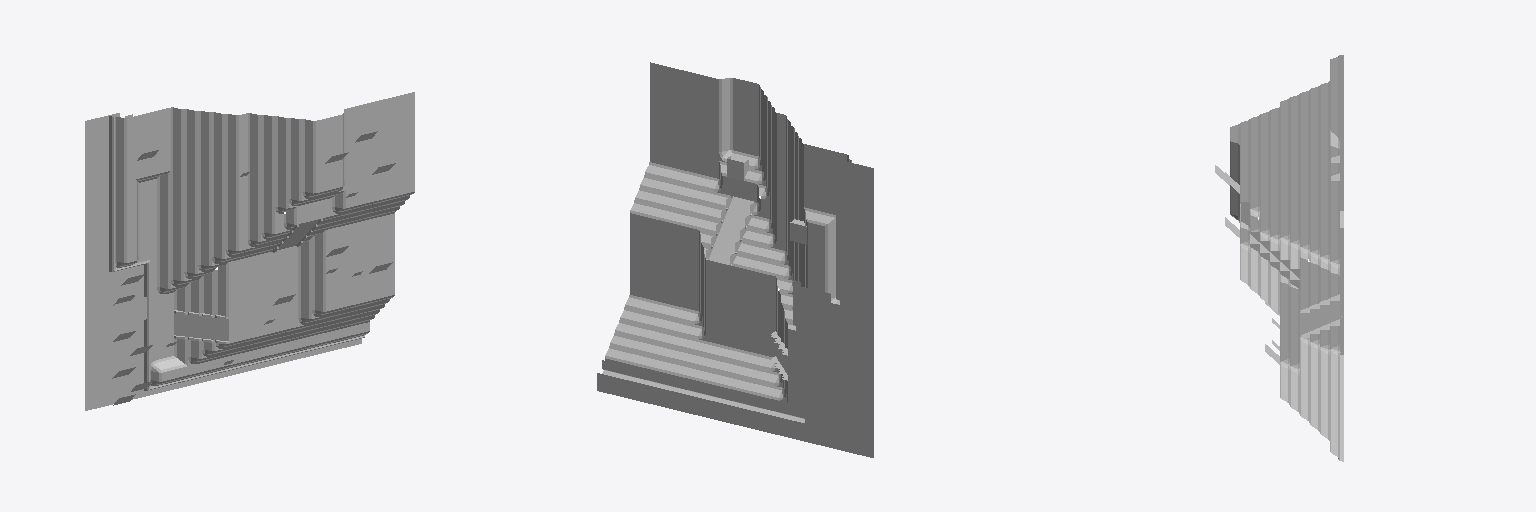
Rendered from Plat_full_02_09.obj.
3 views of the same model, side by side, from view 1: azimuth 30°, elevation 25°; view 2: azimuth 150°, elevation 25°; view 3: azimuth 270°, elevation 25° (orthographic).
Visible parts, largest first — view 1: map; view 2: map; view 3: map.
Boxes of the visible parts, x1=… form: map: x1=85, y1=92, x2=414, y2=410; map: x1=597, y1=62, x2=873, y2=457; map: x1=1215, y1=55, x2=1343, y2=461.
Bounding box in the file's own units: 32 × 32 × 12.91.